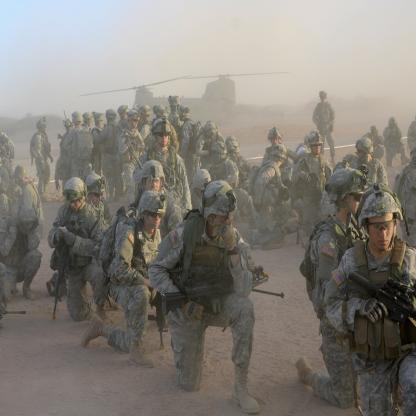Helmet: (354, 184, 402, 250), (201, 184, 240, 245), (325, 163, 369, 213), (60, 176, 86, 213), (140, 189, 164, 229), (84, 171, 105, 207), (141, 160, 166, 190), (18, 204, 39, 238), (192, 169, 212, 196), (152, 118, 170, 147), (209, 141, 227, 164), (354, 137, 374, 156), (308, 130, 322, 156), (270, 144, 286, 163), (203, 120, 217, 139), (224, 141, 242, 155), (70, 109, 84, 125), (266, 127, 282, 141), (153, 104, 168, 118), (116, 104, 129, 120), (168, 96, 181, 111), (128, 108, 140, 122), (92, 110, 102, 126), (334, 160, 350, 170), (178, 105, 190, 118), (140, 103, 151, 117), (35, 117, 47, 129), (60, 117, 72, 129), (105, 107, 115, 121), (82, 111, 91, 126), (368, 125, 378, 135), (225, 136, 238, 142), (319, 90, 327, 98), (303, 135, 308, 144)
